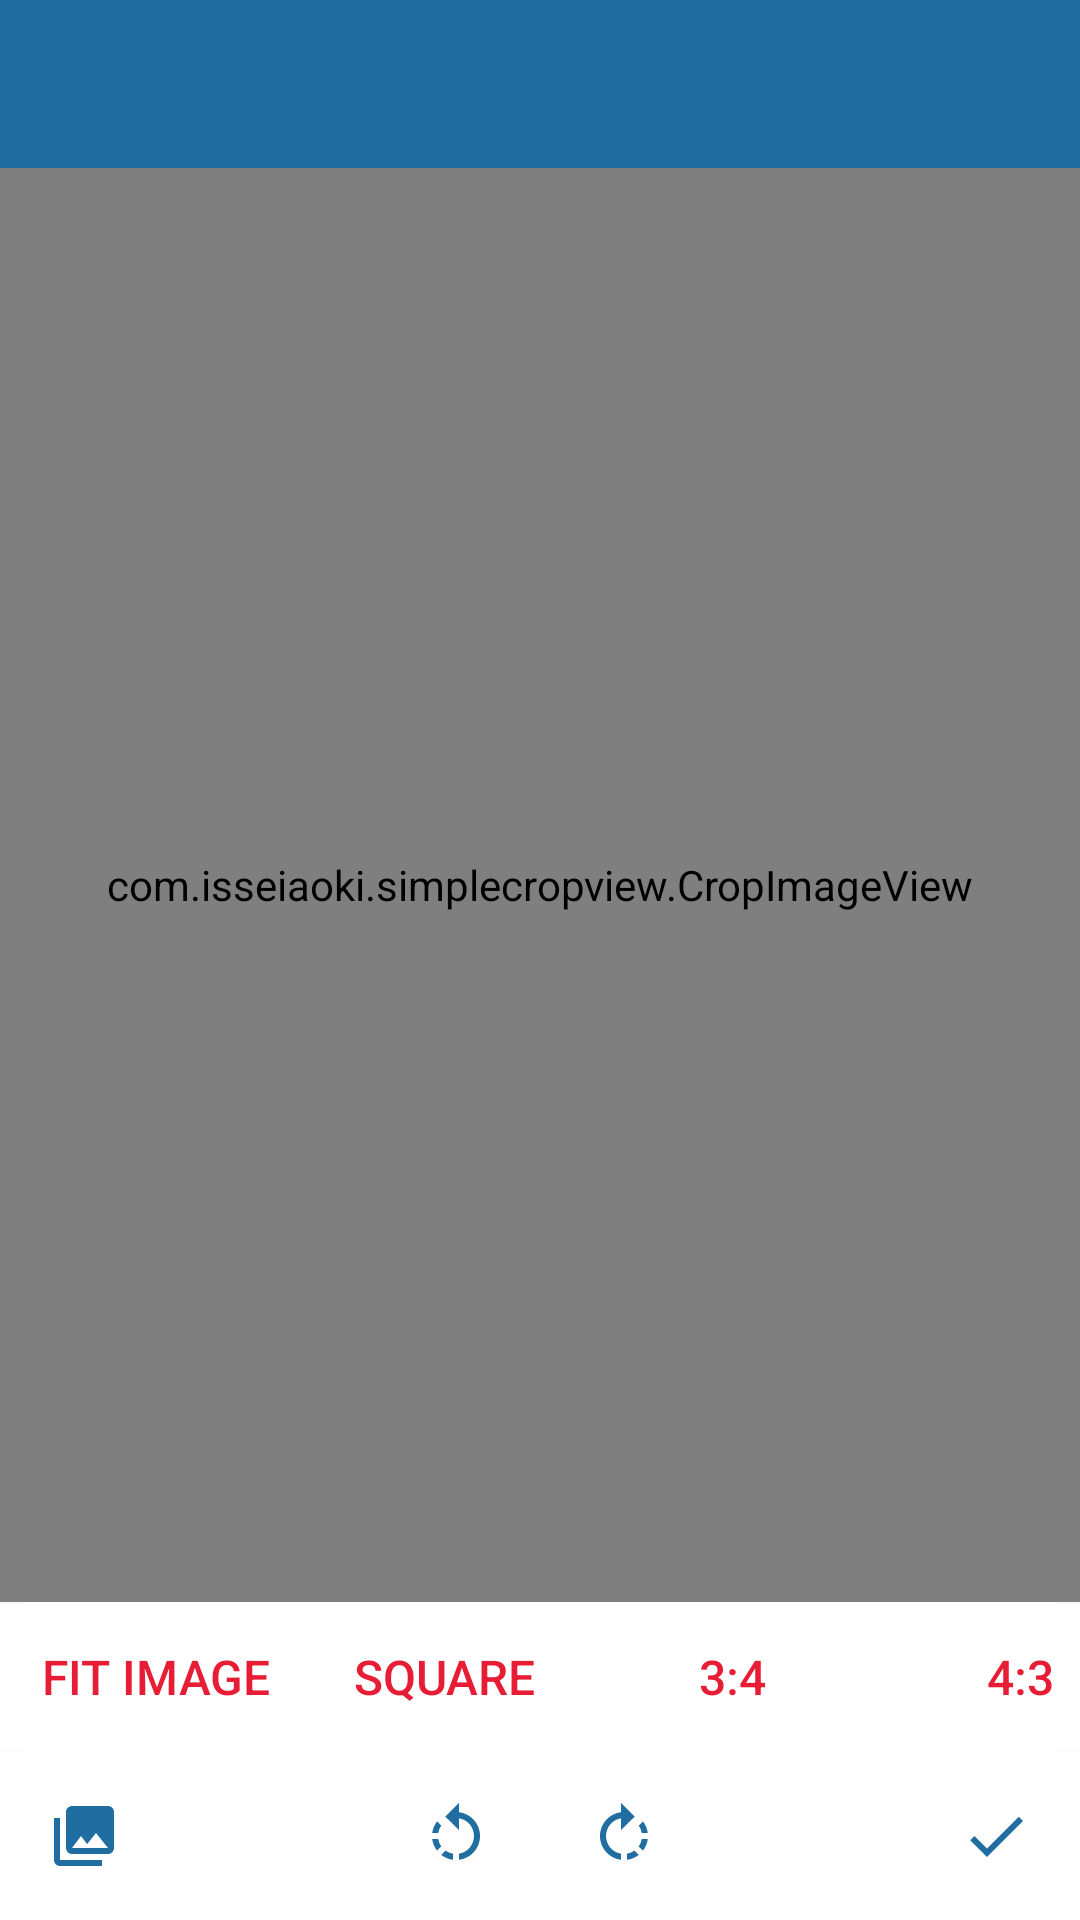

Named icons in this screenshot (1080 × 1920) and their centers, [x,y]:
done: [996,1837]
photo library: [84,1836]
rotate left: [456,1831]
rotate right: [624,1831]
